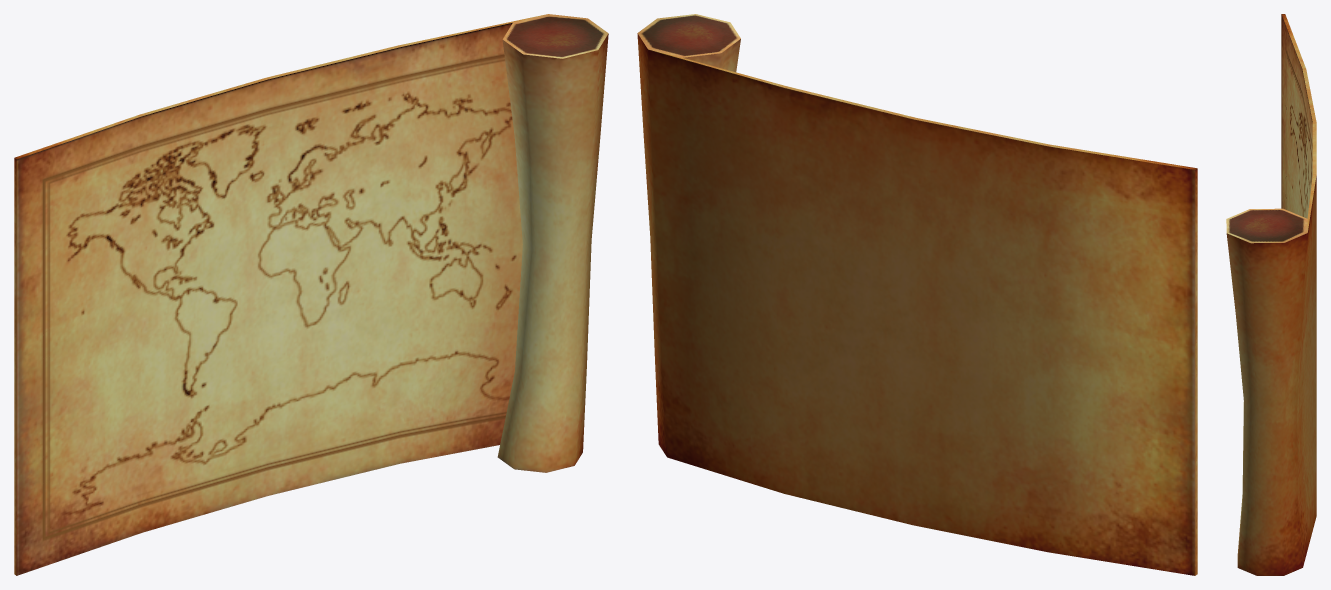
The model's file is map.fbx.
The picture shows the model from 3 angles, left to right: view 1: azimuth 30°, elevation 25°; view 2: azimuth 150°, elevation 25°; view 3: azimuth 270°, elevation 25°; orthographic projection. The views are drawn at different scales.
Visible parts, largest first — view 1: map; view 2: map; view 3: map.
Part boxes in pixels (x1,y1,x2,y2): map: (14, 14, 608, 575); map: (637, 14, 1197, 575); map: (1226, 14, 1316, 575).
Bounding box in the file's own units: 47.87 × 33.25 × 7.95.
